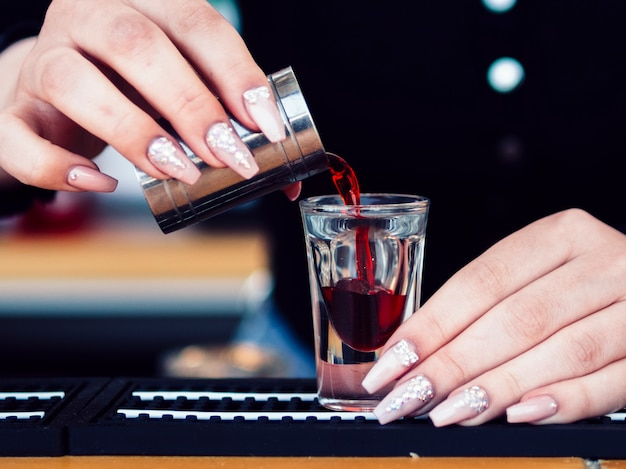alcohol: (301, 190, 429, 415)
